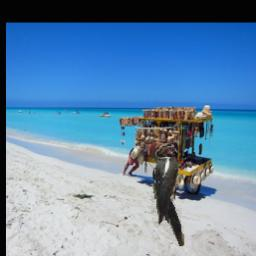Woodpecker: (148, 140, 183, 246)
